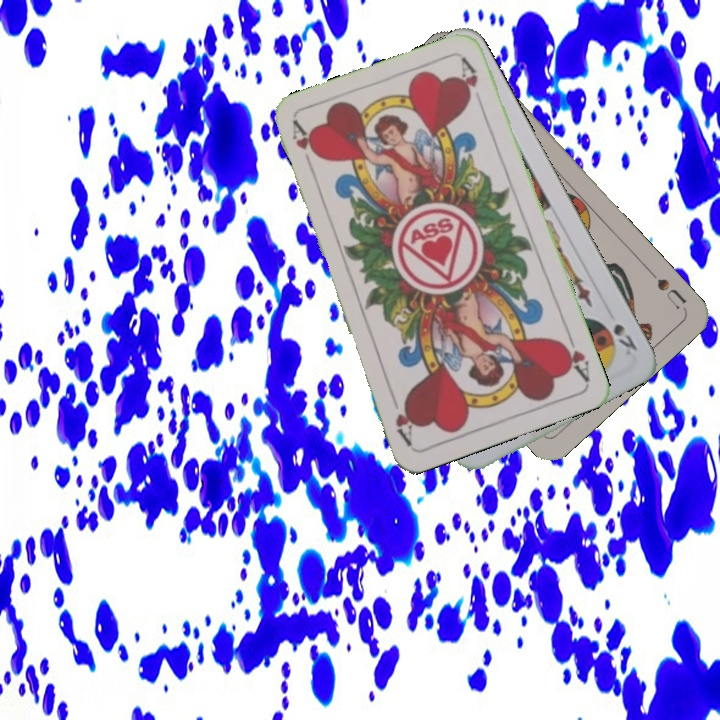HA: (555, 327, 593, 384), (287, 118, 319, 176)
SK: (609, 319, 640, 358)
SU: (643, 265, 689, 312)
